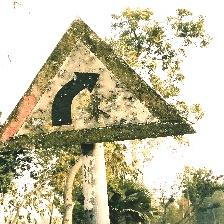Right-turn: (1, 16, 196, 147)
